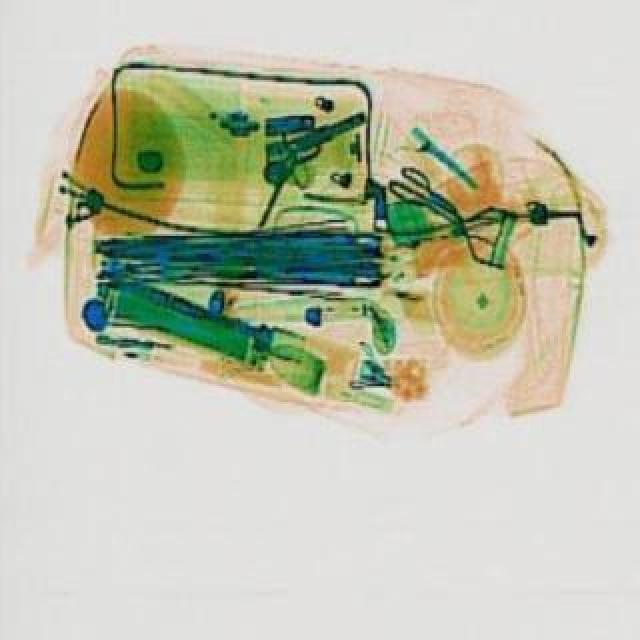pliers: (384, 158, 460, 218)
